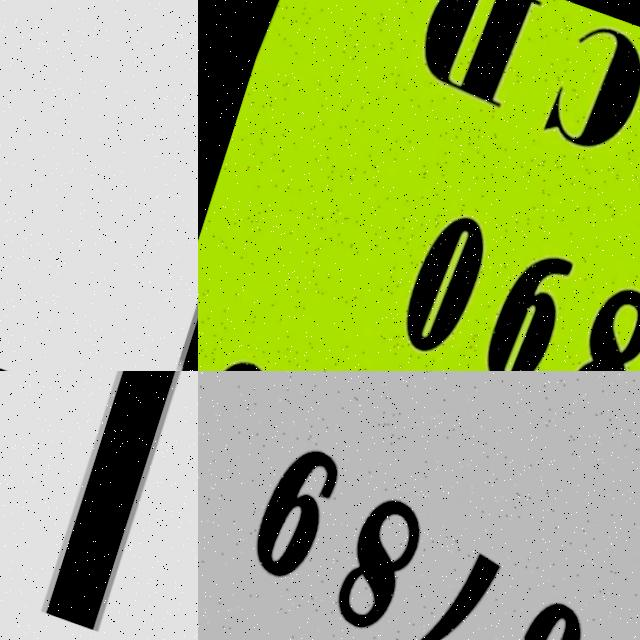0: (372, 185, 510, 371)
1: (145, 0, 198, 371)
6: (458, 563, 620, 640)
7: (375, 499, 545, 640)
8: (284, 456, 458, 640), (535, 251, 640, 371)
9: (206, 395, 382, 623), (460, 210, 595, 371)
J: (0, 371, 198, 640)
